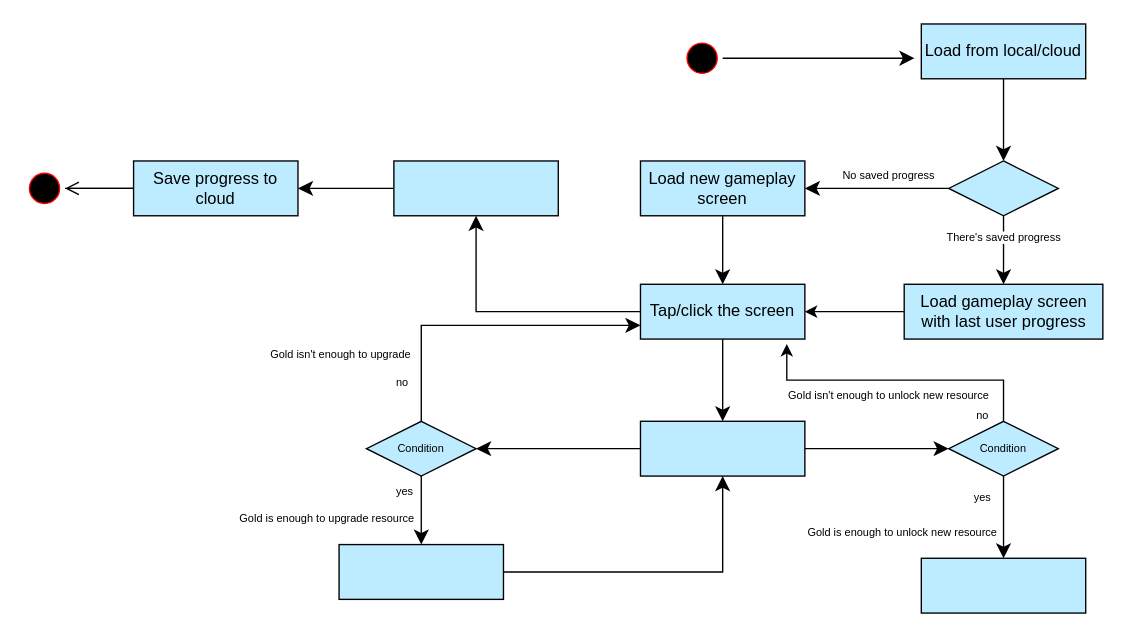
This 1128x637 diagram has some shape labels left out. The shapes that lost their labels are listed below. From the top down, each one's centre as x and y in pixels, then its label:
the point at 475,188: Exit game
the point at 722,448: Gold increased
the point at 420,571: Resource upgraded
the point at 1003,585: Get new achievement
